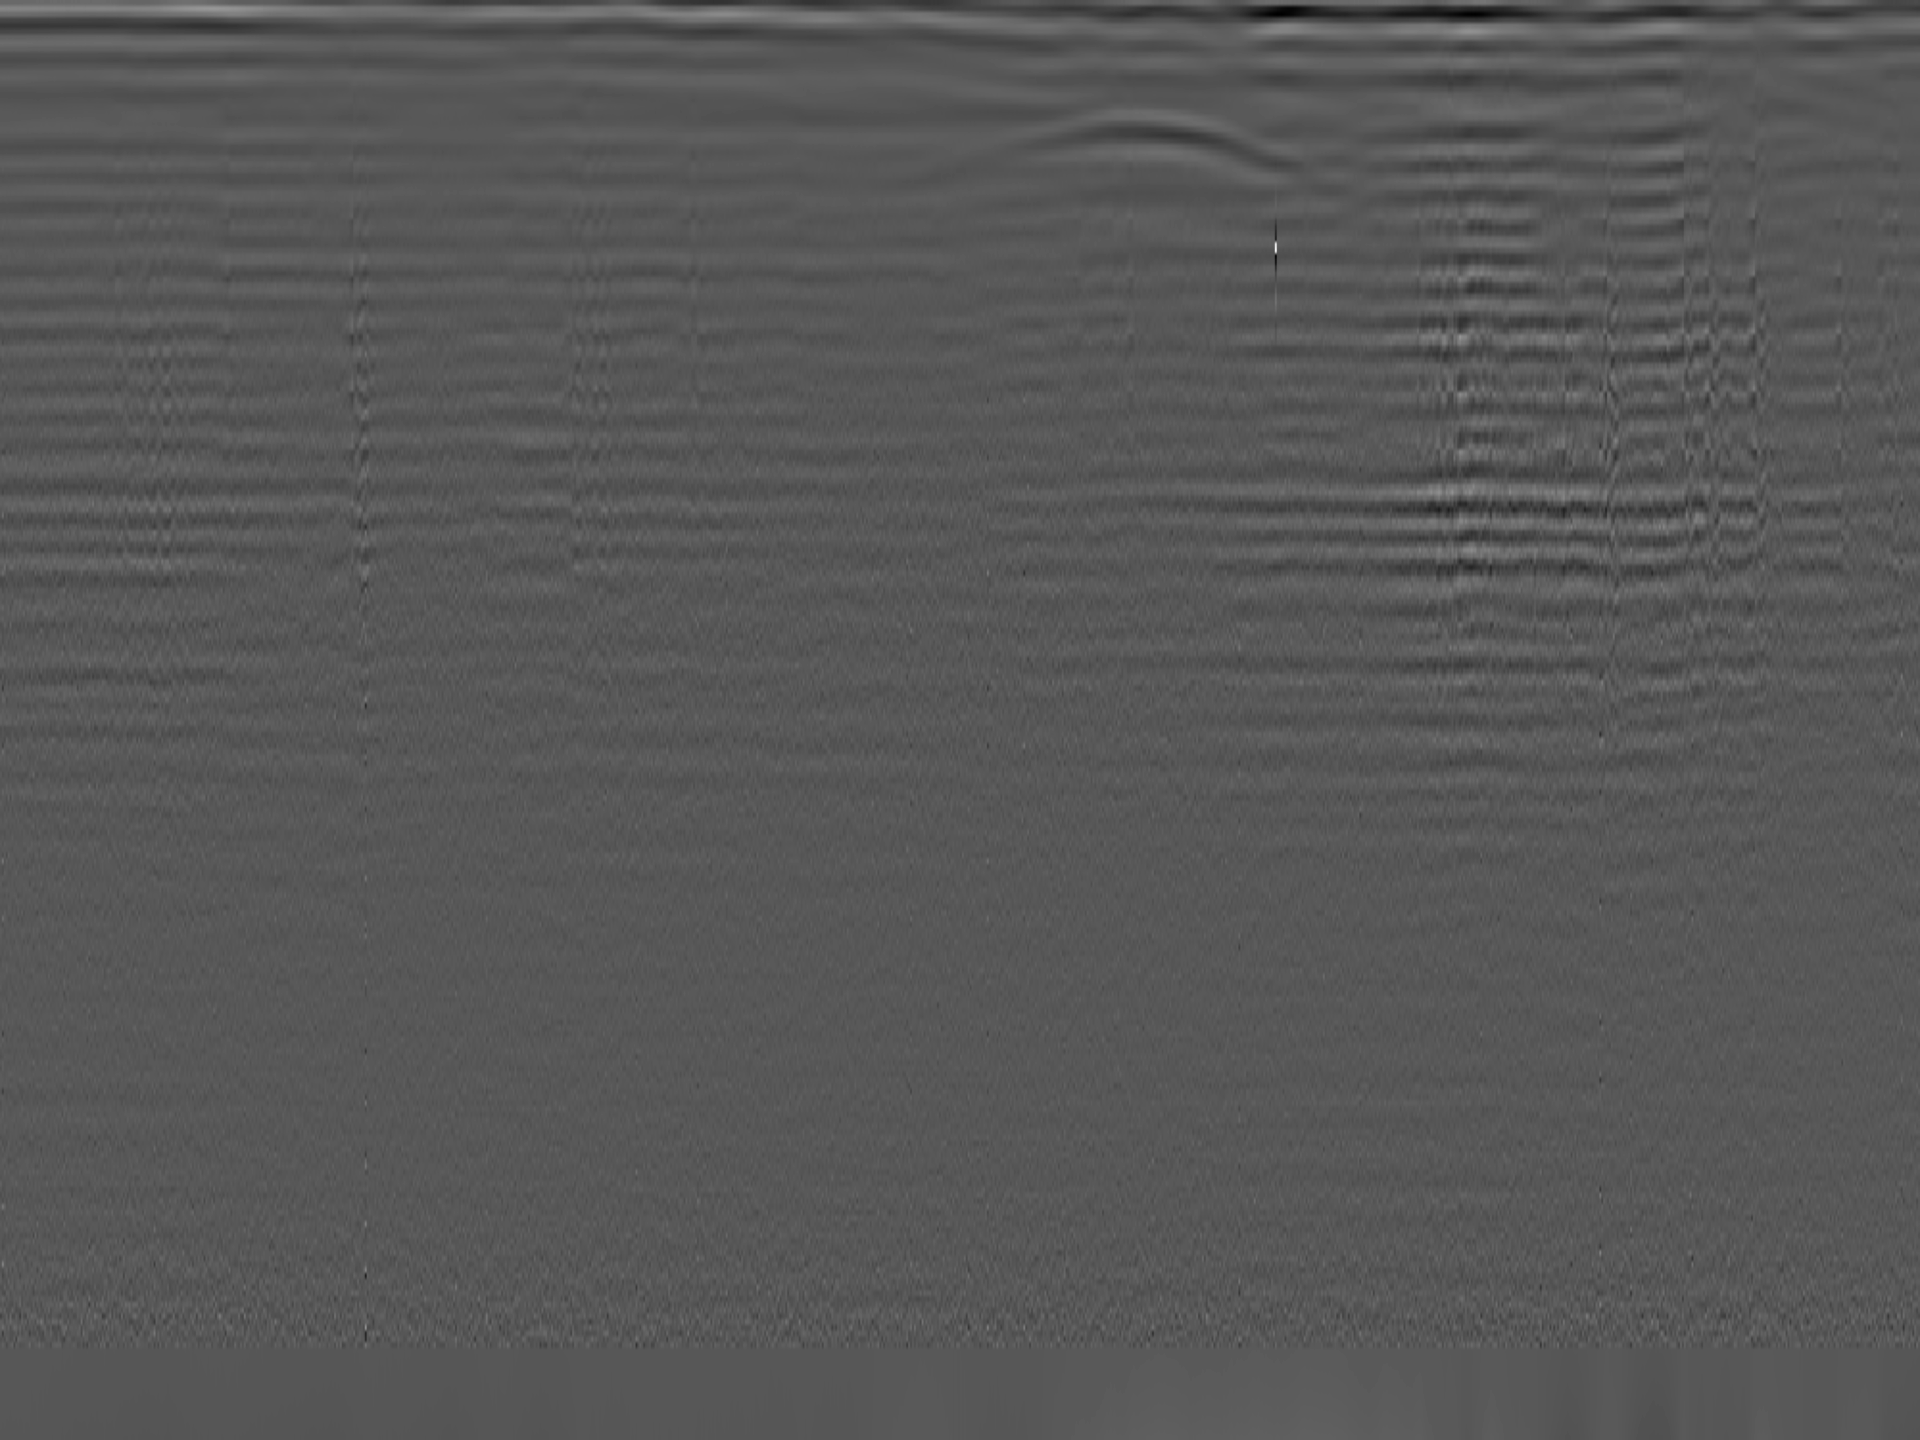Tunnel: (940, 109, 1309, 178)
